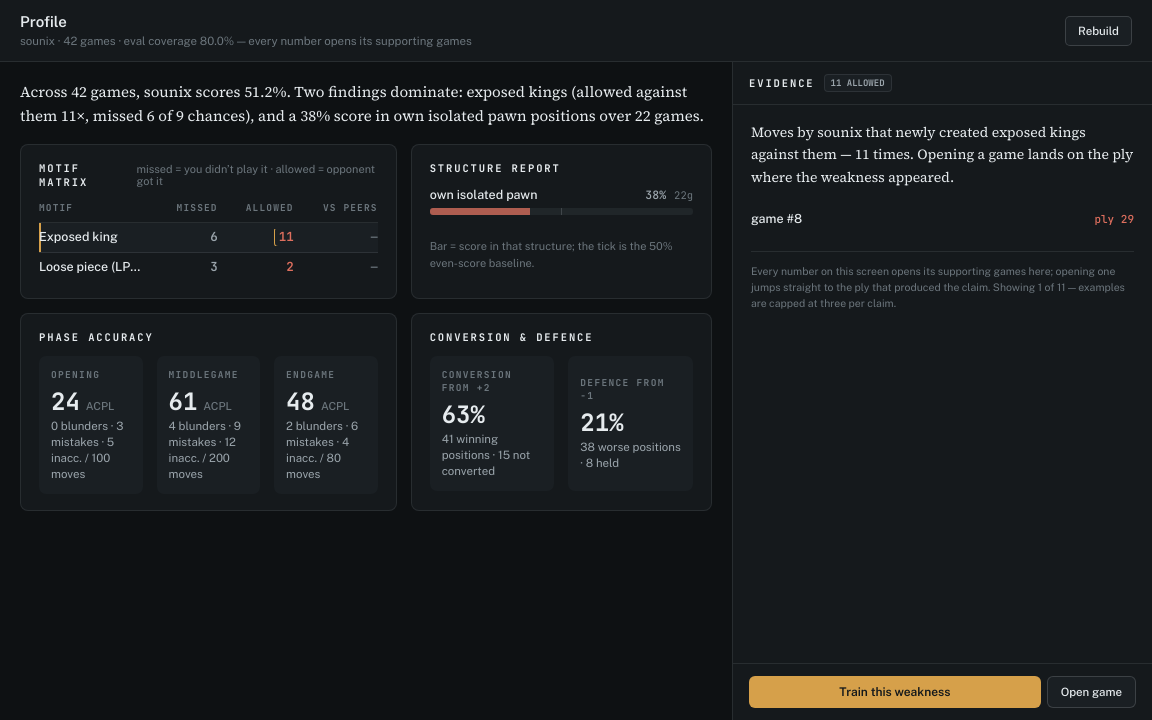
Test: Profile — Train this weakness seeds the tactics queue › is disabled for non-motif claims (only motifs can seed the queue)
Click the text "own isolated pawn" at (484, 194), box x1=430 y1=187 x2=538 y2=202
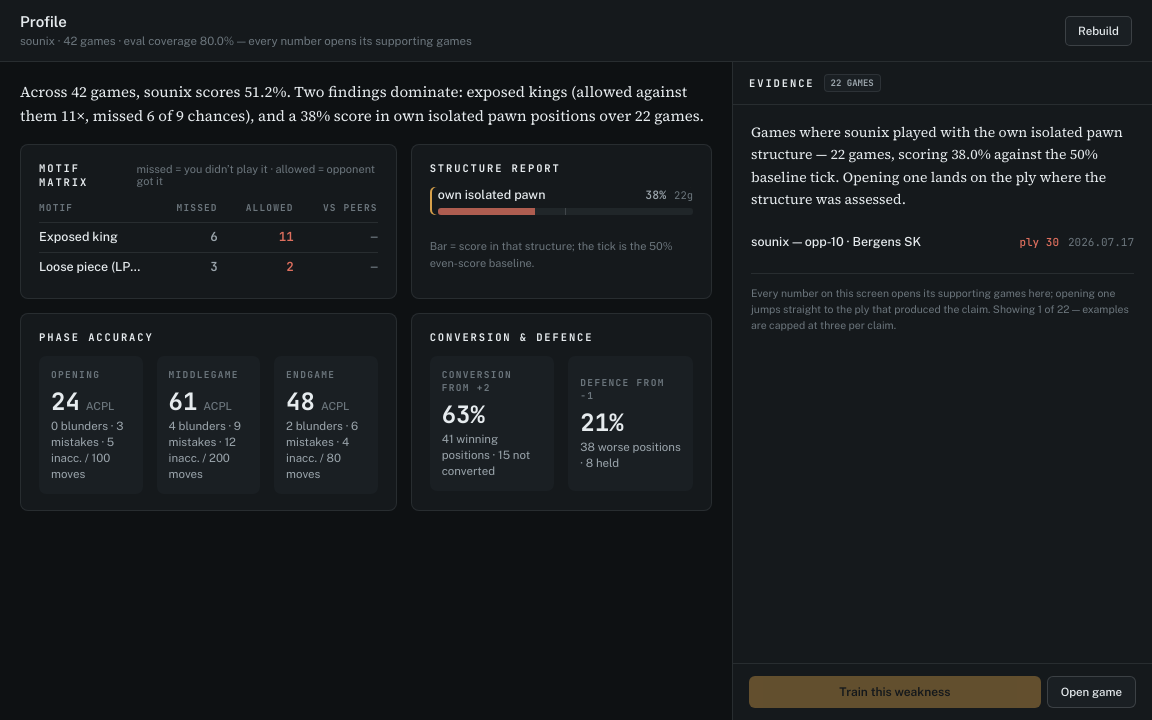
Expected: the button "Train this weakness" is disabled, x1=749 y1=676 x2=1041 y2=708
